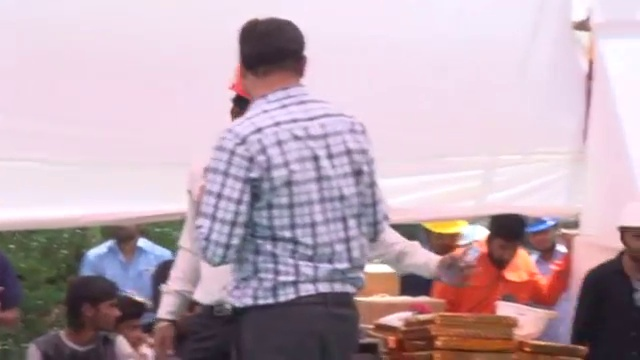helmet: (493, 300, 555, 337), (423, 216, 468, 237), (523, 213, 559, 237)
helmet_off: (222, 22, 315, 100), (60, 278, 124, 345), (484, 217, 523, 271), (114, 295, 150, 347), (102, 224, 147, 254), (616, 227, 640, 269)
helmet_on: (423, 216, 469, 255), (525, 223, 565, 257)
person: (196, 16, 391, 355), (437, 208, 576, 320), (25, 270, 153, 360), (574, 225, 640, 359), (79, 221, 176, 293)
